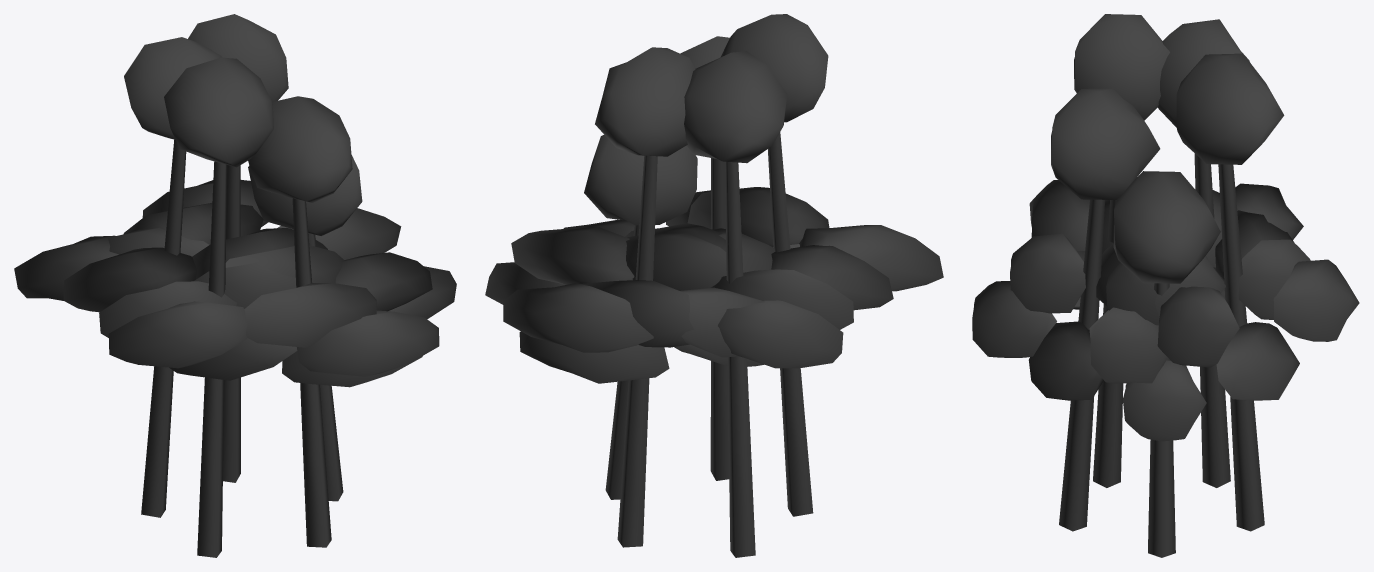
File: taiga_flower.glb
The picture shows the model from 3 angles, left to right: view 1: azimuth 30°, elevation 25°; view 2: azimuth 150°, elevation 25°; view 3: azimuth 270°, elevation 25°; orthographic projection. The views are drawn at different scales.
Visible parts, largest first — view 1: foliage, bark; view 2: foliage, bark; view 3: foliage, bark.
Boxes of the visible parts, left/top/right/bottom form: foliage: left=14, top=14, right=456, bottom=387; bark: left=141, top=139, right=343, bottom=557; foliage: left=485, top=14, right=943, bottom=383; bark: left=605, top=132, right=813, bottom=557; foliage: left=972, top=14, right=1359, bottom=441; bark: left=1059, top=153, right=1264, bottom=557.
Size of the model in its own units: 0.5738 by 0.674 by 0.4968.
Materials: 1 (1 with a texture image).
